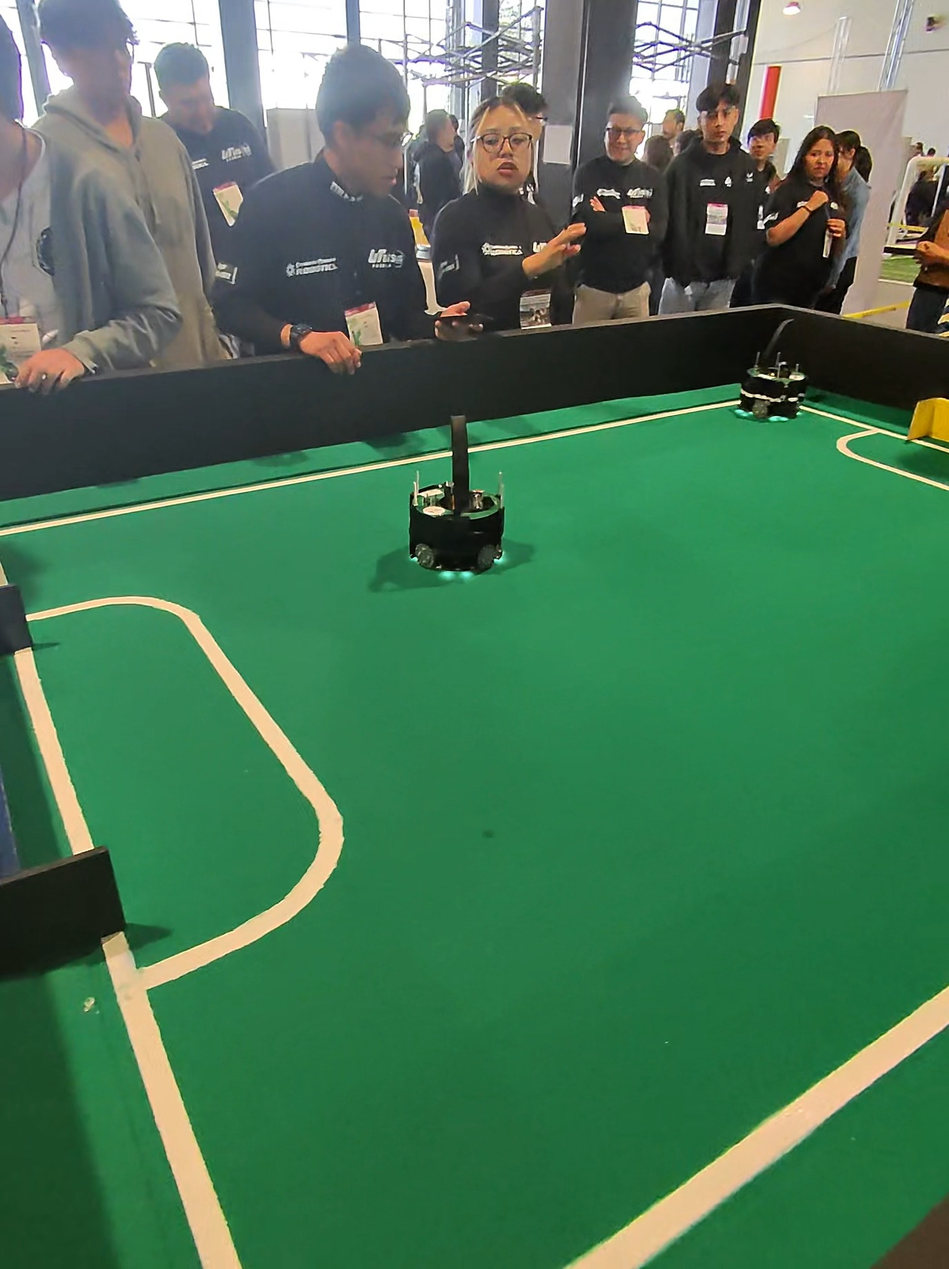Robot: (398, 419, 522, 589), (736, 311, 815, 440)
